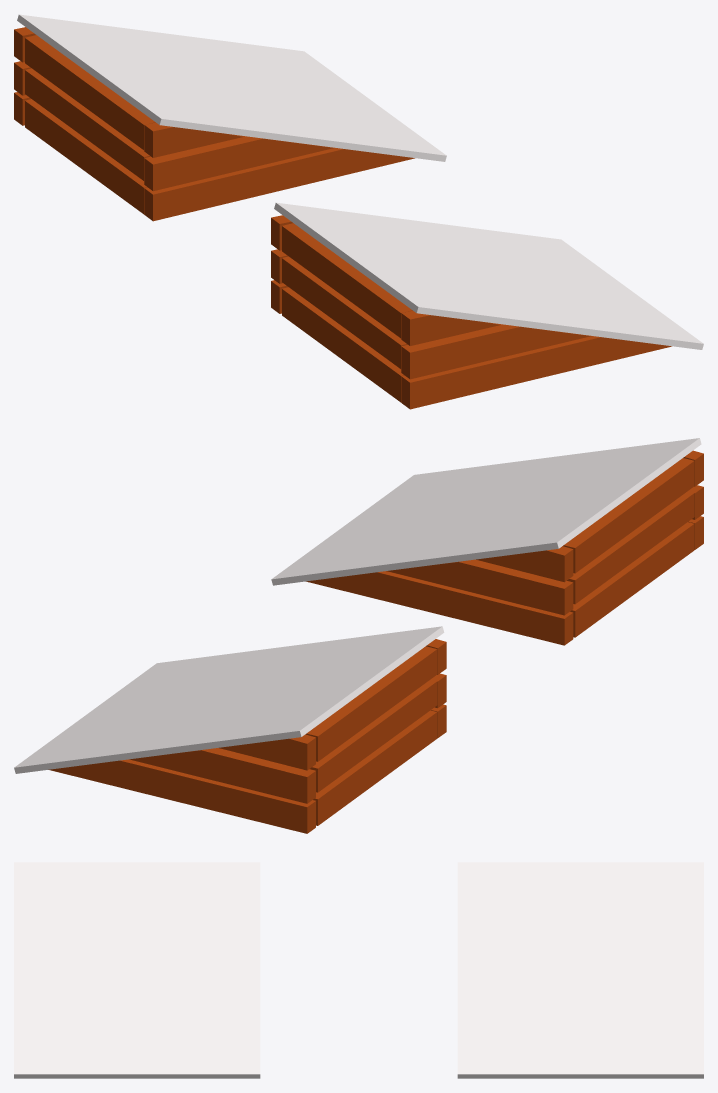
Rendered from diff.glb.
The picture shows the model from 3 angles, top to bottom: view 1: azimuth 30°, elevation 25°; view 2: azimuth 150°, elevation 25°; view 3: azimuth 270°, elevation 25°; orthographic projection. The views are drawn at different scales.
Visible parts, largest first — view 1: Cube.009, Cube.019, Cube.006, Cube.016, Cube.007, Cube.017, Cube.012, Cube.002, Cube, Cube.010, Cube.001, Cube.011 (+2 smaller); view 2: Cube.009, Cube.019, Cube.013, Cube.003, Cube.014, Cube.004, Cube.012, Cube.002, Cube.010, Cube, Cube.011, Cube.001 (+2 smaller); view 3: Cube.009, Cube.019.
Boxes of the visible parts, left/top/right/bottom form: Cube.009: left=17, top=14, right=446, bottom=161; Cube.019: left=274, top=202, right=703, bottom=349; Cube.006: left=144, top=147, right=414, bottom=221; Cube.016: left=401, top=336, right=671, bottom=409; Cube.007: left=144, top=136, right=333, bottom=191; Cube.017: left=401, top=324, right=591, bottom=379; Cube.012: left=282, top=223, right=412, bottom=338; Cube.002: left=25, top=35, right=155, bottom=149; Cube: left=25, top=99, right=147, bottom=214; Cube.010: left=282, top=287, right=404, bottom=402; Cube.001: left=25, top=68, right=150, bottom=180; Cube.011: left=282, top=256, right=407, bottom=368; Cube.009: left=14, top=626, right=444, bottom=773; Cube.019: left=271, top=438, right=701, bottom=585; Cube.013: left=306, top=571, right=573, bottom=645; Cube.003: left=48, top=759, right=315, bottom=833; Cube.014: left=386, top=559, right=573, bottom=615; Cube.004: left=129, top=748, right=315, bottom=803; Cube.012: left=563, top=458, right=694, bottom=573; Cube.002: left=305, top=646, right=437, bottom=761; Cube.010: left=570, top=522, right=694, bottom=637; Cube: left=313, top=710, right=437, bottom=825; Cube.011: left=567, top=491, right=694, bottom=604; Cube.001: left=310, top=679, right=437, bottom=792; Cube.009: left=457, top=862, right=703, bottom=1078; Cube.019: left=14, top=862, right=260, bottom=1078.
Size of the model in its own units: 9.87 by 3.63 by 23.41.
